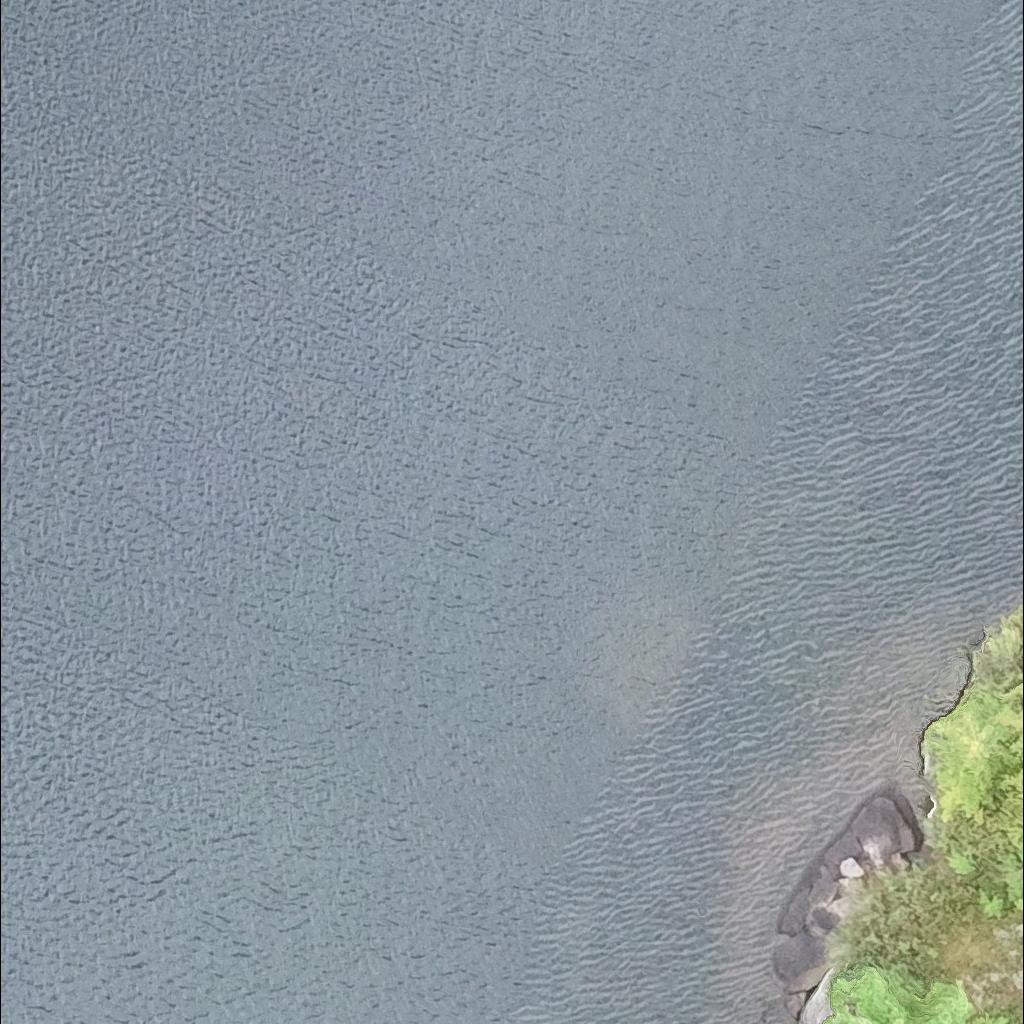crown: (929, 696, 1023, 824), (826, 965, 1009, 1023), (991, 766, 1023, 866), (992, 705, 1023, 762), (997, 681, 1023, 699)
